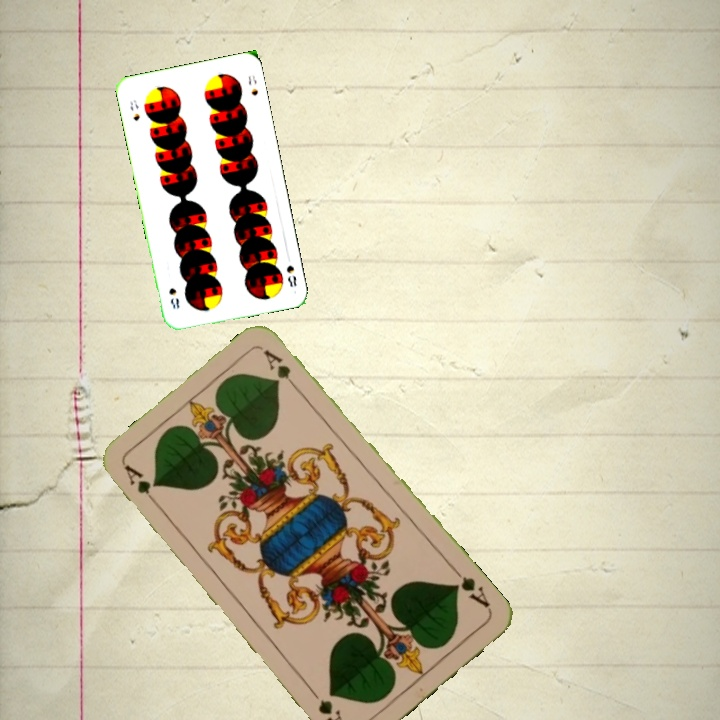GA: (120, 460, 163, 511), (448, 563, 493, 611)
S8: (282, 251, 299, 290), (126, 96, 142, 124)
